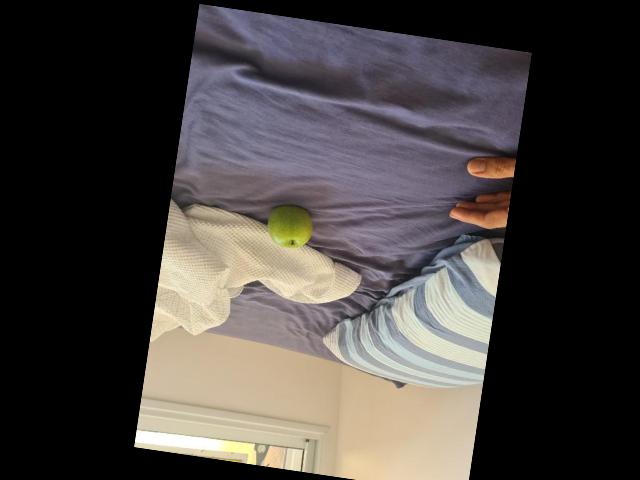apple: (263, 202, 313, 253)
